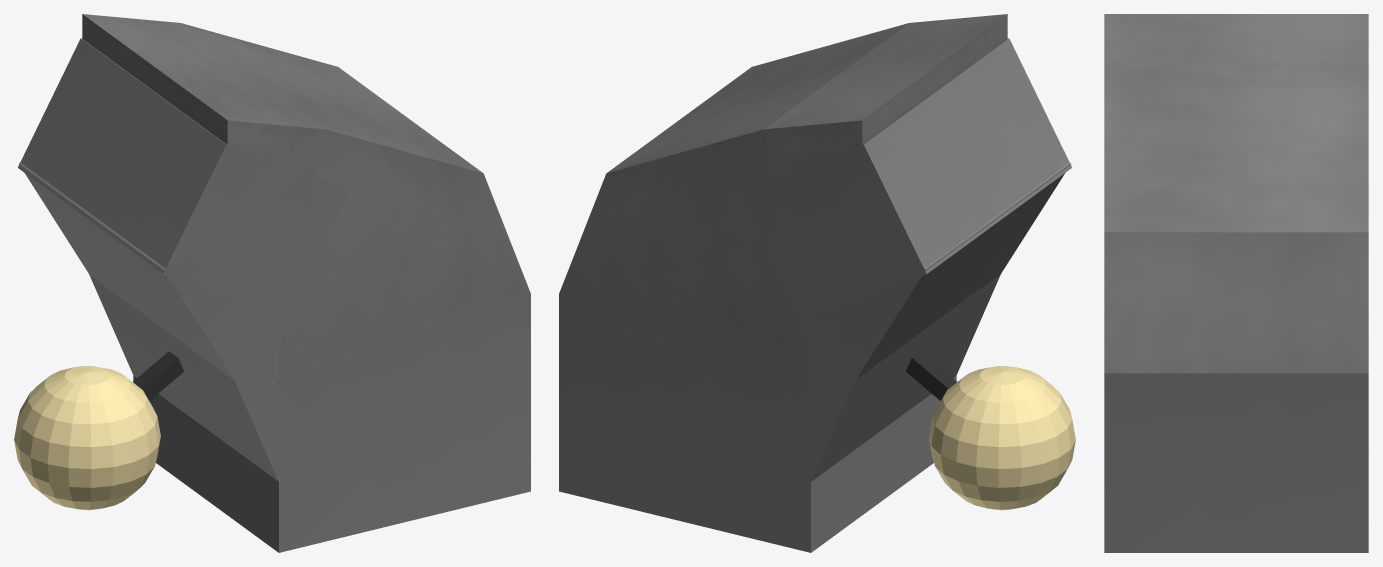
Rendered from dc_metro_roof_d1l.obj.
The picture shows the model from 3 angles, left to right: view 1: azimuth 30°, elevation 25°; view 2: azimuth 150°, elevation 25°; view 3: azimuth 270°, elevation 25°; orthographic projection. The views are drawn at different scales.
Parts seen in each view (by area): view 1: part1p, mesh, part2l; view 2: part1p, mesh, part2l; view 3: mesh, part1p.
Boxes of the visible parts, x1,y1,x2,y2 form: part1p: [18, 38, 530, 552]; mesh: [82, 14, 530, 354]; part2l: [14, 351, 183, 510]; part1p: [559, 38, 1071, 552]; mesh: [559, 14, 1007, 354]; part2l: [906, 351, 1075, 510]; mesh: [1104, 14, 1368, 373]; part1p: [1104, 373, 1368, 552].
Size of the model in its own units: 1.72 by 1.69 by 1.
3 materials, 3 textured.
